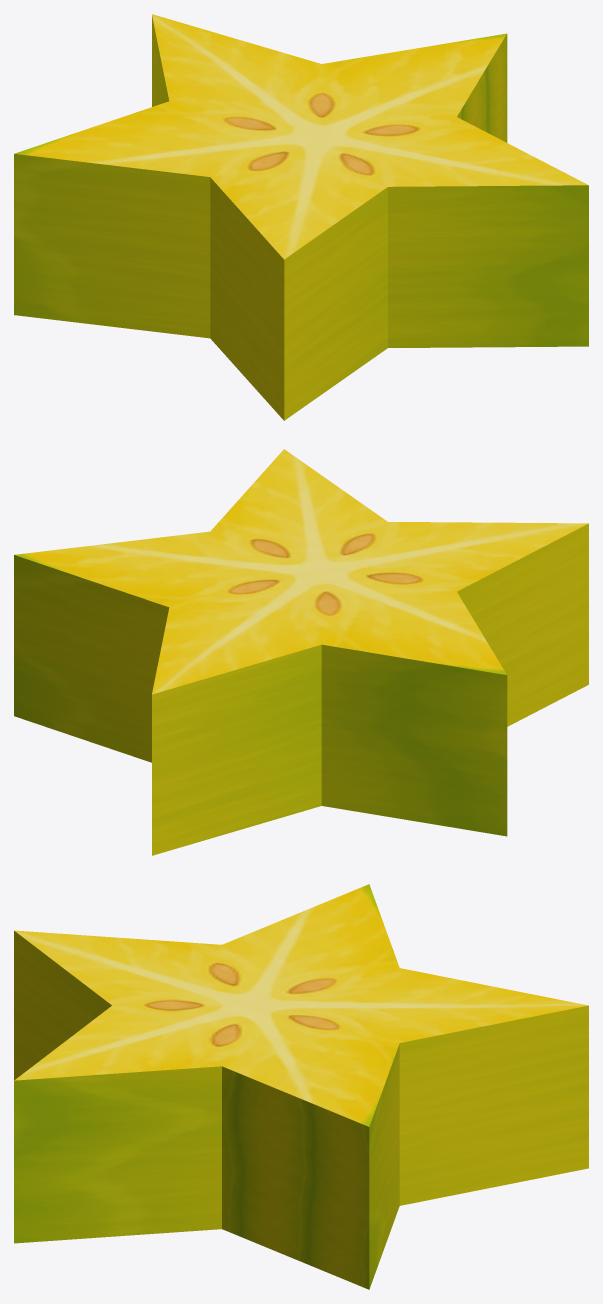
Rendered from starfruit_slice-CVKFYC-b.glb.
The picture shows the model from 3 angles, top to bottom: view 1: azimuth 30°, elevation 25°; view 2: azimuth 150°, elevation 25°; view 3: azimuth 270°, elevation 25°; orthographic projection.
Visible parts, largest first — view 1: HI_starfruit_slice; view 2: HI_starfruit_slice; view 3: HI_starfruit_slice.
Boxes of the visible parts, x1,y1,x2,y2 form: HI_starfruit_slice: (14,14,588,420); HI_starfruit_slice: (14,449,588,855); HI_starfruit_slice: (14,884,588,1289).
Bounding box in the file's own units: 0.32 × 0.1 × 0.32.
1 material, 1 textured.
